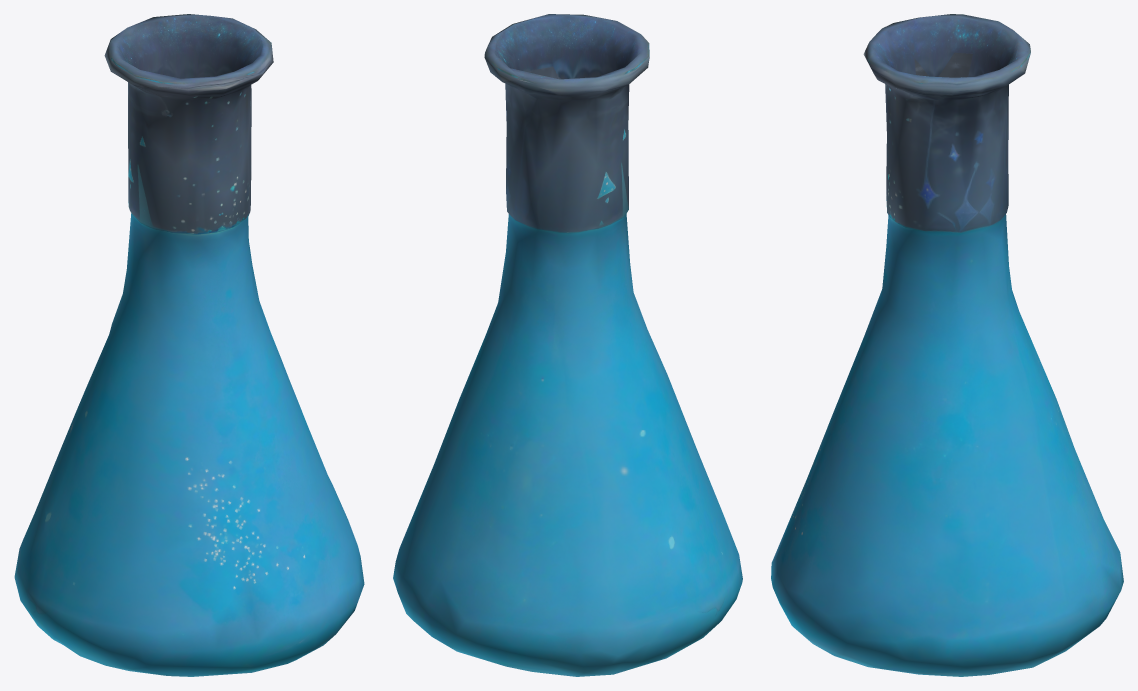
The model's file is mana.obj.
3 views of the same model, side by side, from view 1: azimuth 30°, elevation 25°; view 2: azimuth 150°, elevation 25°; view 3: azimuth 270°, elevation 25° (orthographic).
Visible parts, largest first — view 1: a_mana_potion_in_a_be_0921233753_texture; view 2: a_mana_potion_in_a_be_0921233753_texture; view 3: a_mana_potion_in_a_be_0921233753_texture.
Part boxes in pixels (bbox=[...]): a_mana_potion_in_a_be_0921233753_texture: bbox=[14, 14, 364, 676]; a_mana_potion_in_a_be_0921233753_texture: bbox=[393, 14, 742, 676]; a_mana_potion_in_a_be_0921233753_texture: bbox=[771, 14, 1123, 676].
Size of the model in its own units: 1.12 by 2.01 by 1.13.
